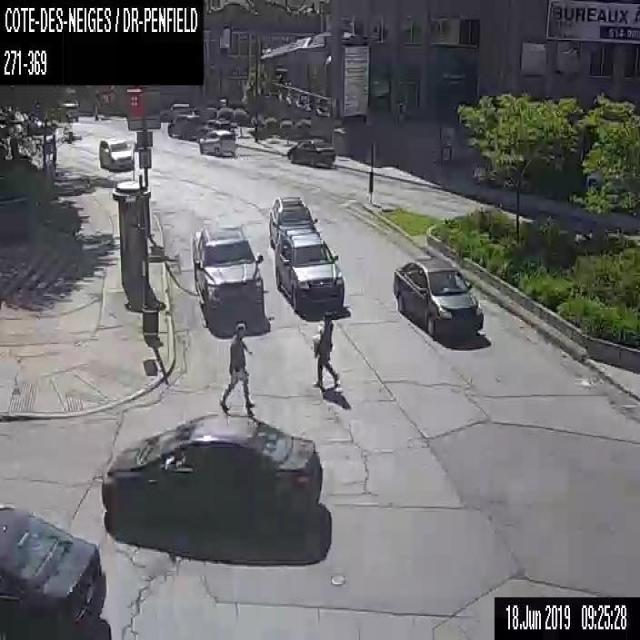pedestrian: (218, 320, 255, 411), (310, 309, 337, 388)
vehicle: (101, 409, 322, 544), (0, 501, 105, 638), (390, 252, 485, 344), (190, 222, 265, 322), (274, 226, 344, 312), (268, 195, 318, 247), (286, 135, 334, 168), (99, 136, 132, 171), (198, 128, 236, 155), (167, 112, 200, 139), (195, 117, 231, 141), (59, 100, 78, 122)
